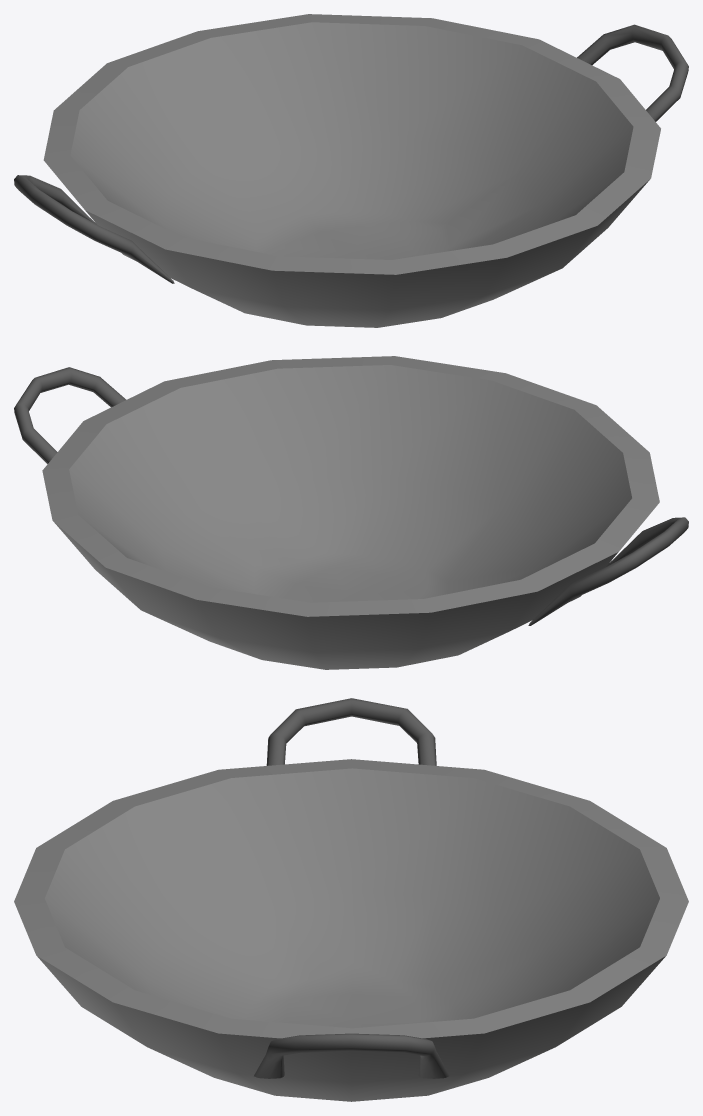
File: ASFTR_Wok.fbx
3 renders of one model, top to bottom at view 1: azimuth 30°, elevation 25°; view 2: azimuth 150°, elevation 25°; view 3: azimuth 270°, elevation 25°, orthographic. The views are drawn at different scales.
Visible parts, largest first — view 1: Wok; view 2: Wok; view 3: Wok.
Boxes of the visible parts, x1,y1,x2,y2 form: Wok: (14, 14, 688, 327); Wok: (14, 356, 688, 669); Wok: (14, 698, 688, 1101).
Size of the model in its own units: 88.87 by 22.32 by 74.46.
